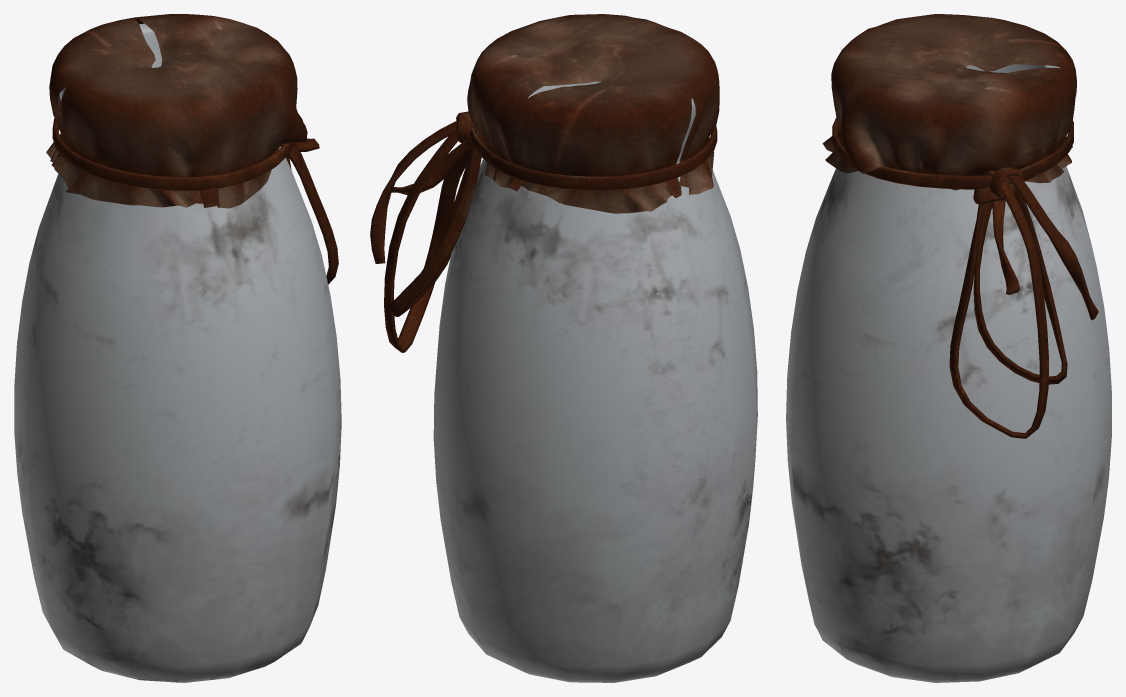
File: Bottle01.fbx
3 renders of one model, left to right at view 1: azimuth 30°, elevation 25°; view 2: azimuth 150°, elevation 25°; view 3: azimuth 270°, elevation 25°, orthographic.
Visible parts, largest first — view 1: KuJ AL Bottle 01.Shape; view 2: KuJ AL Bottle 01.Shape; view 3: KuJ AL Bottle 01.Shape.
Part boxes in pixels (left/top/right/bottom): KuJ AL Bottle 01.Shape: left=14, top=14, right=341, bottom=682; KuJ AL Bottle 01.Shape: left=370, top=14, right=757, bottom=682; KuJ AL Bottle 01.Shape: left=786, top=14, right=1111, bottom=682.
Bounding box in the file's own units: 19.26 × 34.4 × 17.45.
3 materials, 2 textured.
